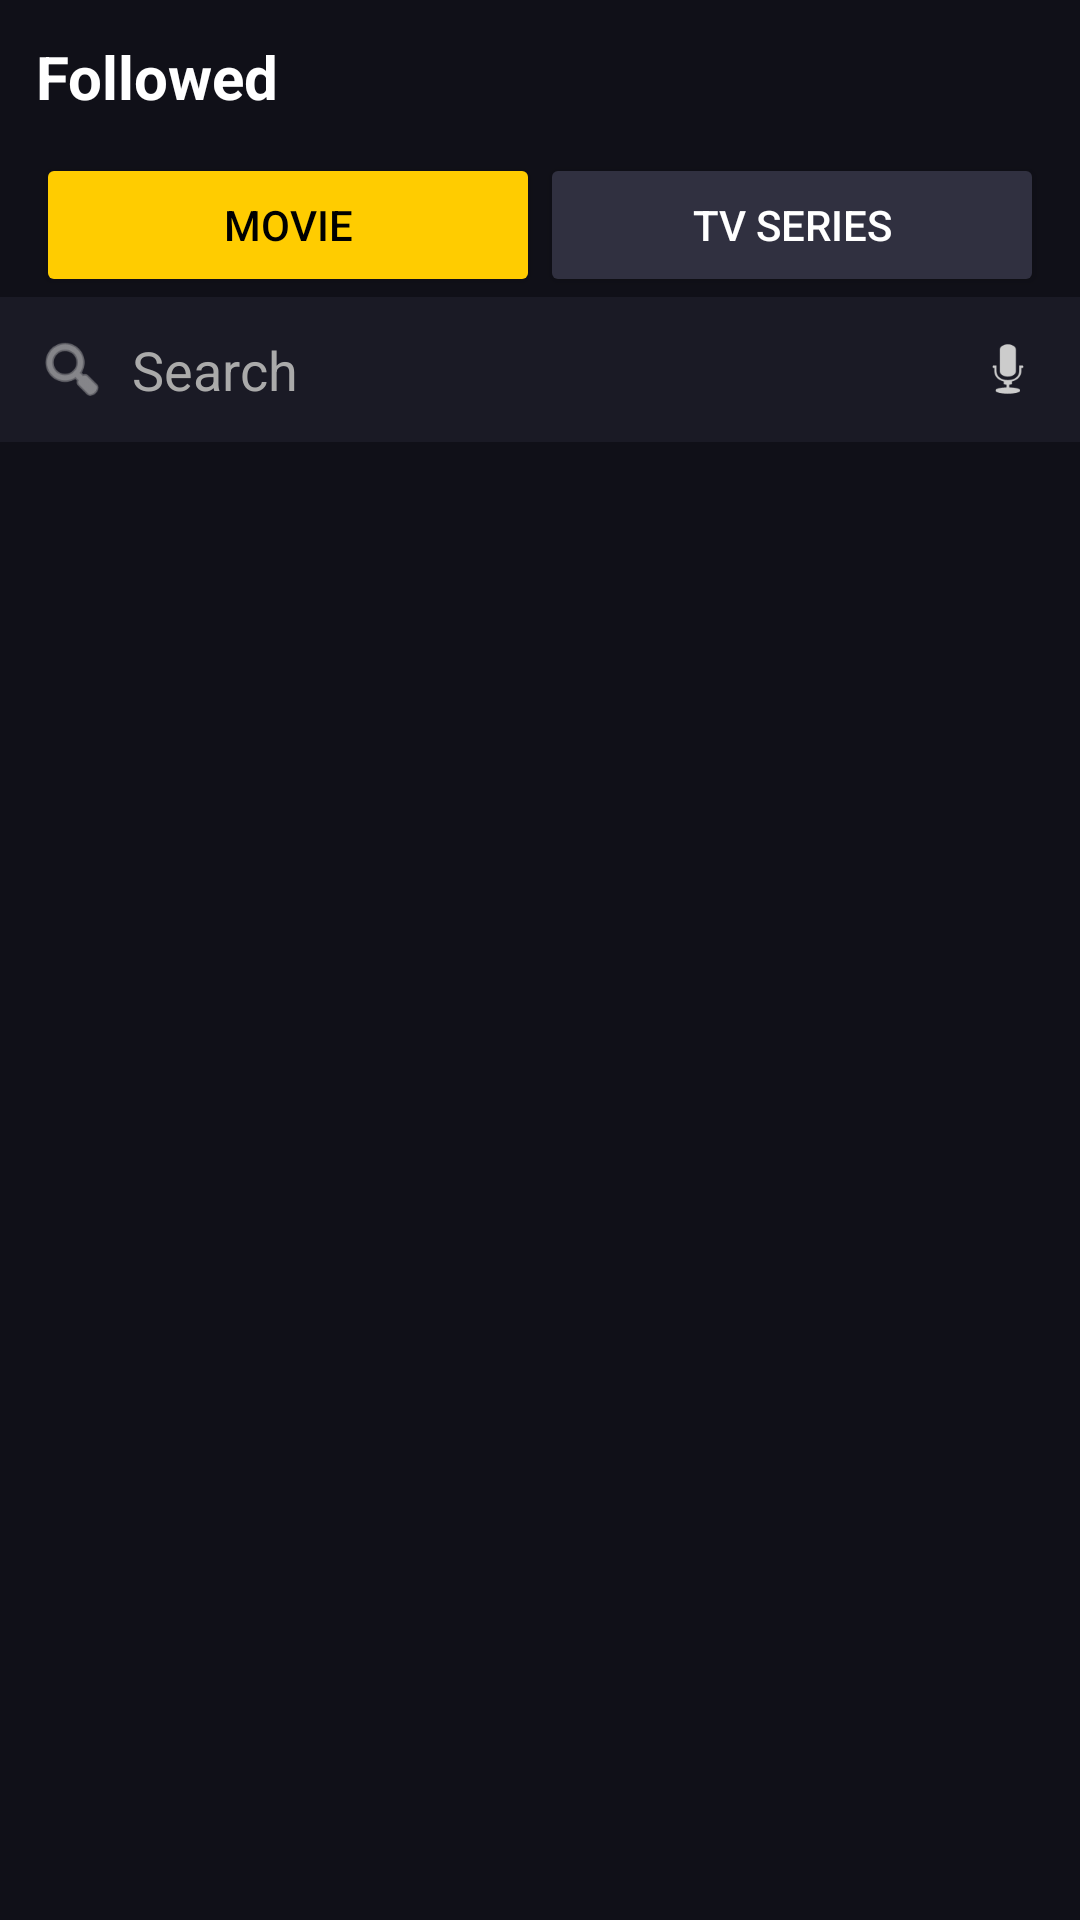

Where icons sit on this 1080 x 1920 app screen, as box(x1, y1, x2, y2):
speak now: box(992, 344, 1024, 394)
